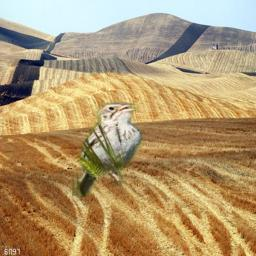Sparrow: (72, 102, 144, 197)
